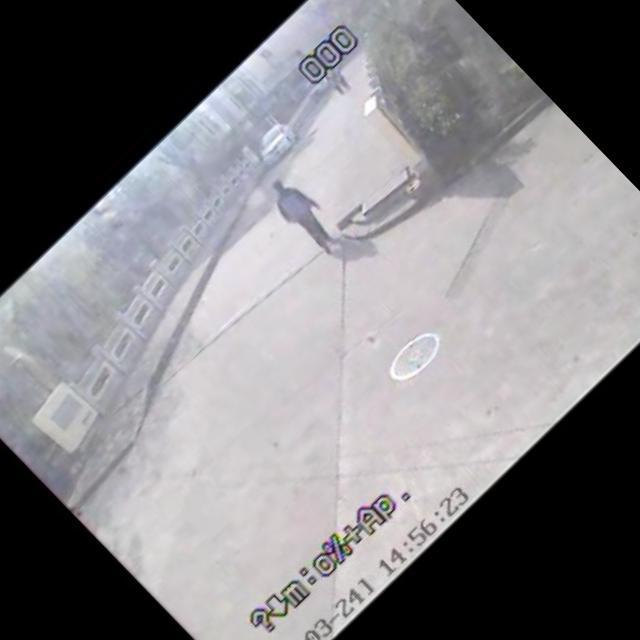person: (258, 164, 348, 256), (328, 64, 358, 95), (322, 70, 347, 96)
